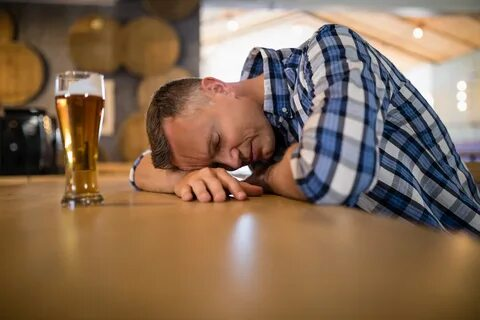sleep: (128, 30, 433, 206)
